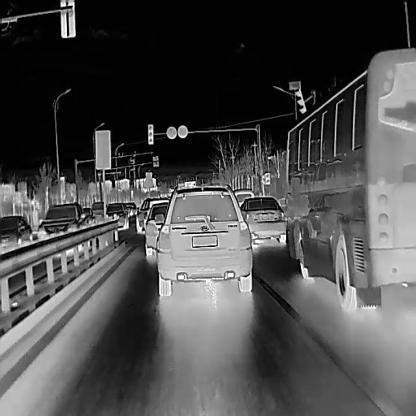car: (277, 44, 415, 313), (154, 181, 252, 296), (36, 202, 86, 249), (239, 195, 286, 243), (0, 214, 32, 259), (145, 201, 171, 256), (135, 195, 168, 234), (106, 202, 127, 227), (91, 199, 107, 221)
